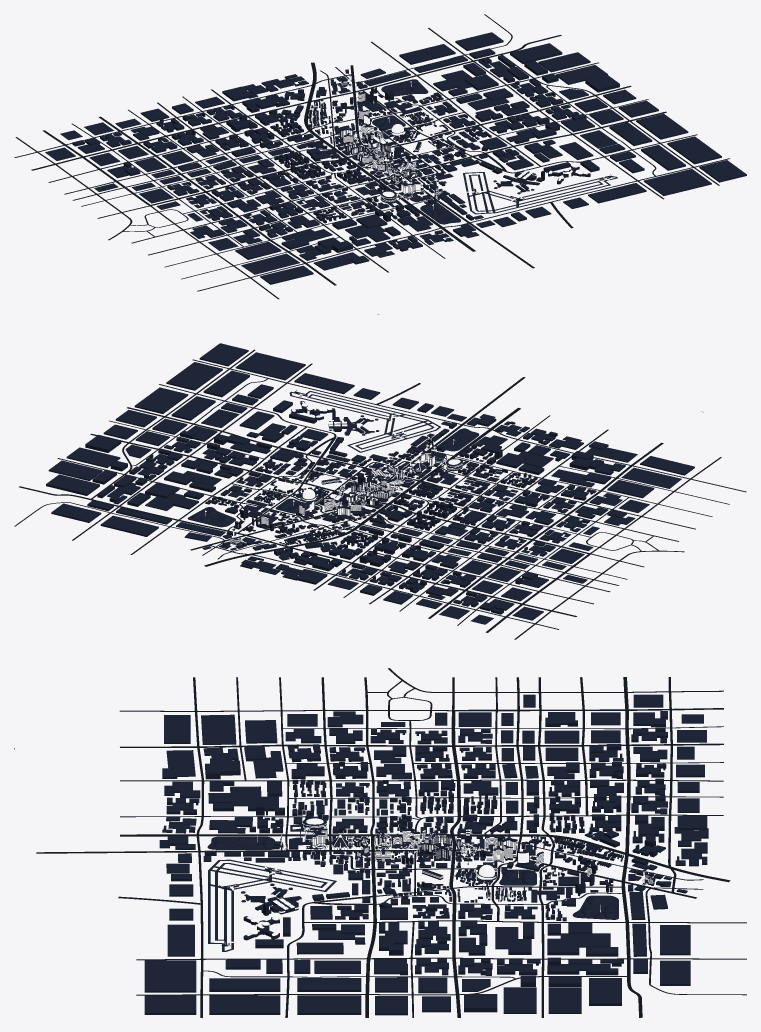
The model's file is Google_LasVegas_Export_v32.glb.
The picture shows the model from 3 angles, top to bottom: view 1: azimuth 30°, elevation 25°; view 2: azimuth 150°, elevation 25°; view 3: azimuth 270°, elevation 25°; orthographic projection. The views are drawn at different scales.
Parts seen in each view (by area): view 1: Surrounding.buildings, ROADS, Airport, GolfCourse.3, GolfCourse.2; view 2: Surrounding.buildings, ROADS, Airport, GolfCourse.3, GolfCourse.2; view 3: Surrounding.buildings, ROADS, Airport, GolfCourse.3, GolfCourse.2, GolfCourse.1.
Part boxes in pixels (x1=…): Surrounding.buildings: x1=45, y1=32, x2=746, y2=284; ROADS: x1=14, y1=14, x2=729, y2=314; Airport: x1=462, y1=159, x2=618, y2=214; GolfCourse.3: x1=381, y1=79, x2=428, y2=96; GolfCourse.2: x1=420, y1=202, x2=460, y2=224; Surrounding.buildings: x1=46, y1=343, x2=694, y2=624; ROADS: x1=14, y1=349, x2=746, y2=639; Airport: x1=273, y1=388, x2=441, y2=453; GolfCourse.3: x1=187, y1=507, x2=235, y2=527; GolfCourse.2: x1=438, y1=428, x2=479, y2=451; Surrounding.buildings: x1=144, y1=694, x2=708, y2=1015; ROADS: x1=14, y1=668, x2=746, y2=1017; Airport: x1=207, y1=859, x2=337, y2=952; GolfCourse.3: x1=572, y1=895, x2=618, y2=919; GolfCourse.2: x1=207, y1=835, x2=274, y2=849; GolfCourse.1: x1=499, y1=869, x2=536, y2=885.
Bounding box in the file's own units: 19517 × 502 × 17280.
